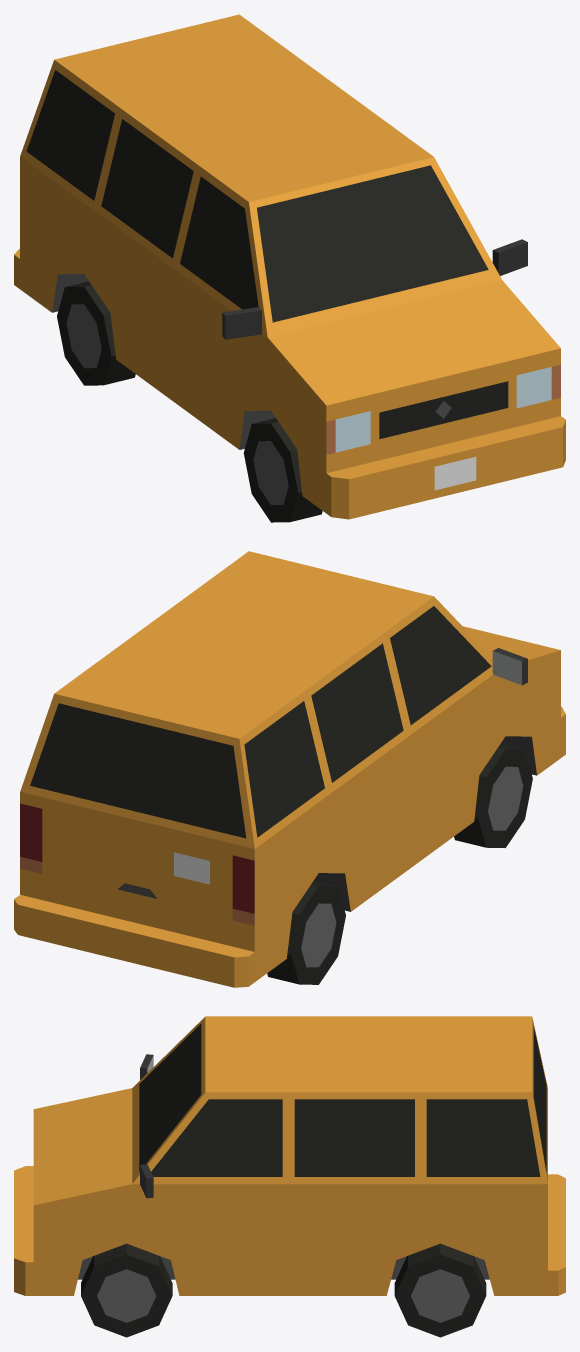
Rendered from Veh_Minivan_Yellow.glb.
3 renders of one model, top to bottom at view 1: azimuth 30°, elevation 25°; view 2: azimuth 150°, elevation 25°; view 3: azimuth 270°, elevation 25°, orthographic. The views are drawn at different scales.
Visible parts, largest first — view 1: Minivan_Yellow, Wheel_RR, Wheel_FR; view 2: Minivan_Yellow, Wheel_RR, Wheel_FR; view 3: Minivan_Yellow, Wheel_RL, Wheel_FL.
Boxes of the visible parts, x1,y1,x2,y2 form: Minivan_Yellow: [14, 14, 565, 519]; Wheel_RR: [57, 281, 135, 385]; Wheel_FR: [243, 418, 322, 522]; Minivan_Yellow: [14, 551, 565, 987]; Wheel_RR: [267, 880, 345, 984]; Wheel_FR: [454, 744, 532, 848]; Minivan_Yellow: [14, 1016, 565, 1295]; Wheel_RL: [394, 1243, 486, 1337]; Wheel_FL: [81, 1243, 172, 1337].
Size of the model in its own units: 1.31 by 1.16 by 2.46.
Materials: 1 (1 with a texture image).
